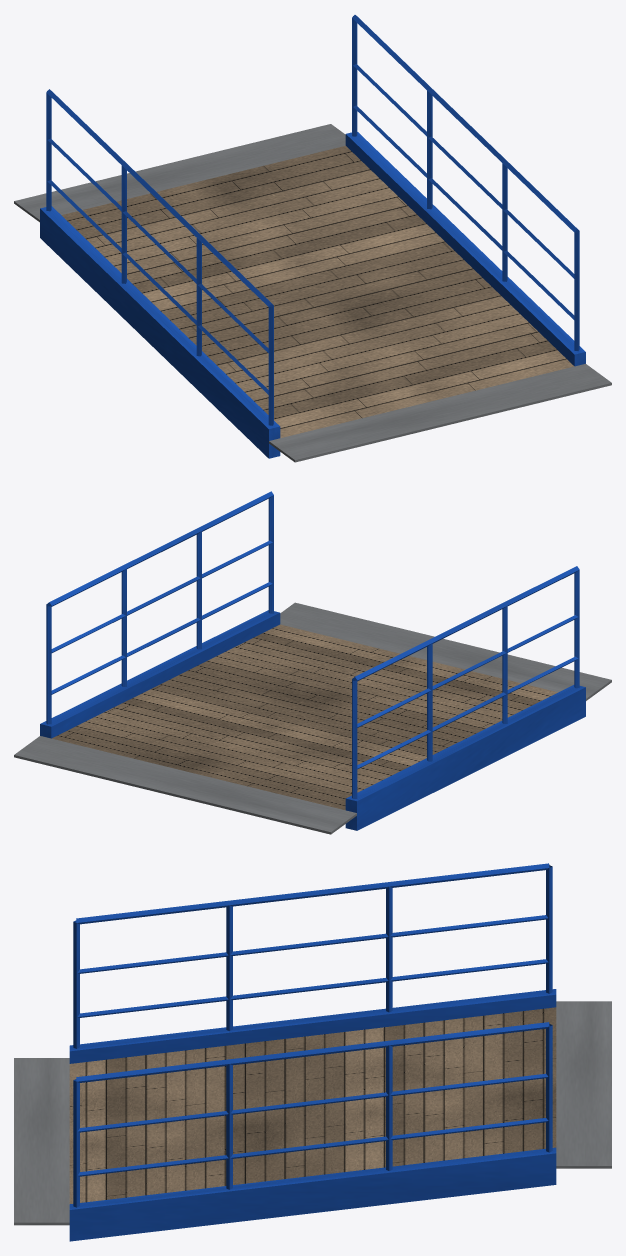
The model's file is SM_Morin_Marina_Passerella_v2_LOD1.fbx.
3 views of the same model, one above another, from view 1: azimuth 30°, elevation 25°; view 2: azimuth 150°, elevation 25°; view 3: azimuth 270°, elevation 25° (orthographic). The views are drawn at different scales.
Parts seen in each view (by area): view 1: SM_Morin_Marina_Passerella_v2_LOD1; view 2: SM_Morin_Marina_Passerella_v2_LOD1; view 3: SM_Morin_Marina_Passerella_v2_LOD1.
Part boxes in pixels (x1=…): SM_Morin_Marina_Passerella_v2_LOD1: x1=14, y1=15, x2=611, y2=462; SM_Morin_Marina_Passerella_v2_LOD1: x1=14, y1=491, x2=611, y2=834; SM_Morin_Marina_Passerella_v2_LOD1: x1=14, y1=863, x2=611, y2=1241.
Bounding box in the file's own units: 280 × 430 × 172.
Materials: 2 (2 with a texture image).
